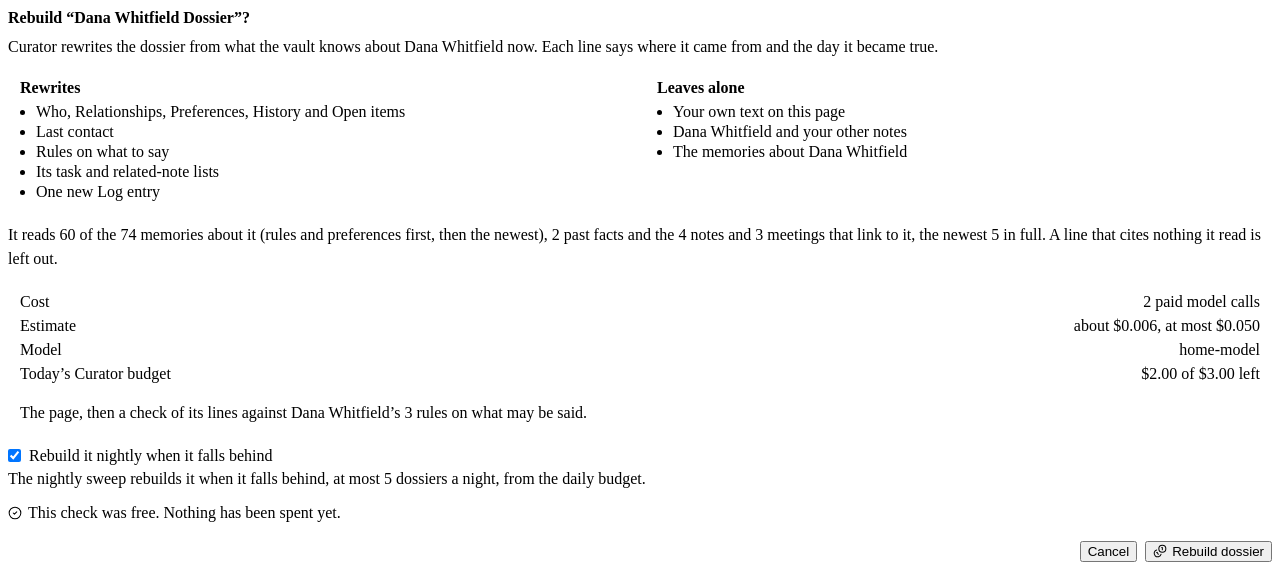
Test case: turns nightly rebuilds off with the build when the box is cleared
Click the checkbox labelled "Rebuild it nightly when it falls behind": x=14, y=456 [8,449,21,462]
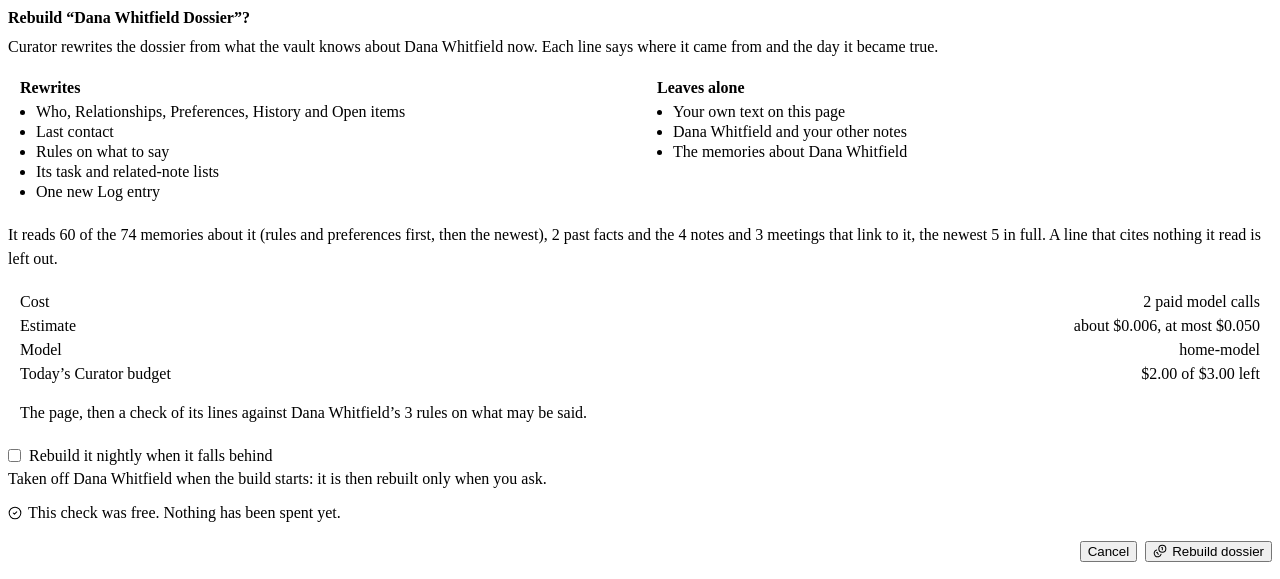
Result: the text "Taken off Dana Whitfield when the build starts" is shown at [8,470,547,487]
Click the button "Rebuild dossier": x=1209, y=551 [1145,541,1272,562]
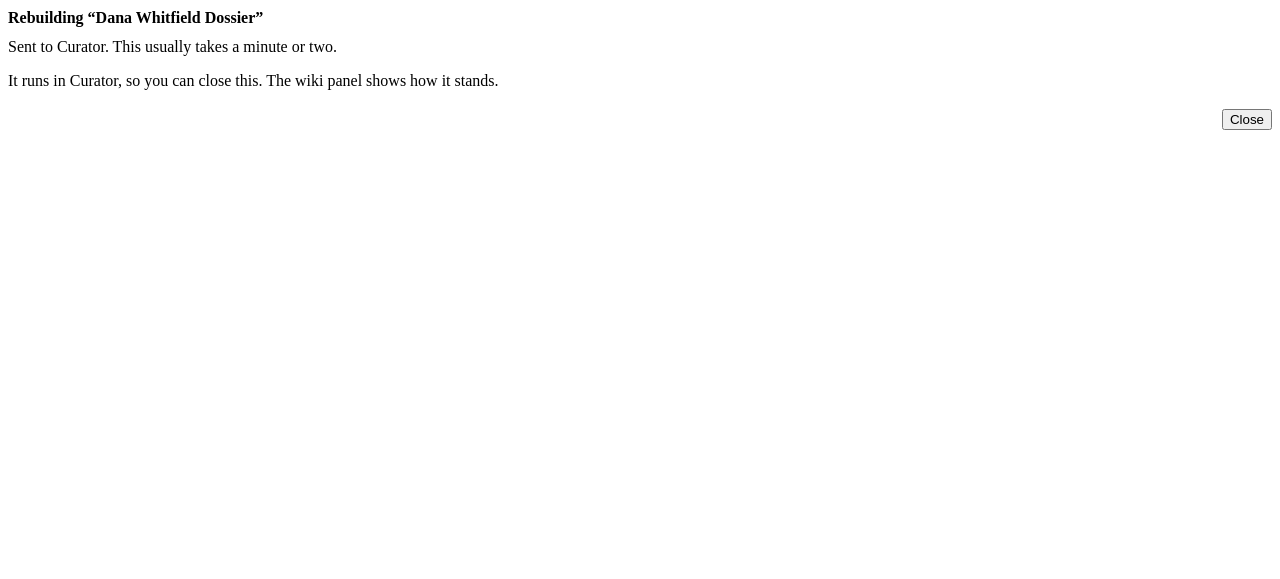
Result: the text "Sent to Curator. This usually takes a minute or two." is shown at [8,38,337,55]
